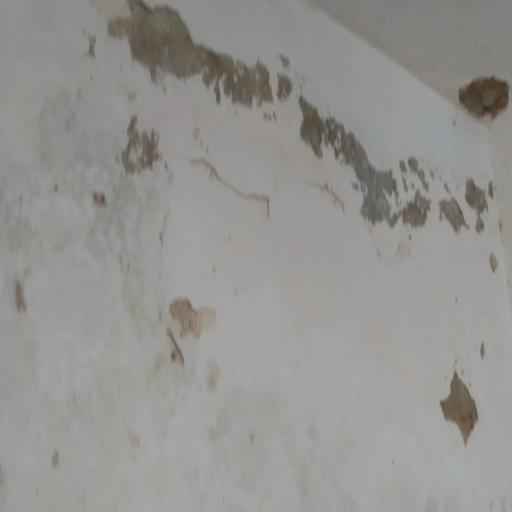peeling: (48, 0, 512, 277), (416, 350, 512, 443), (144, 282, 234, 378), (0, 263, 48, 322)
